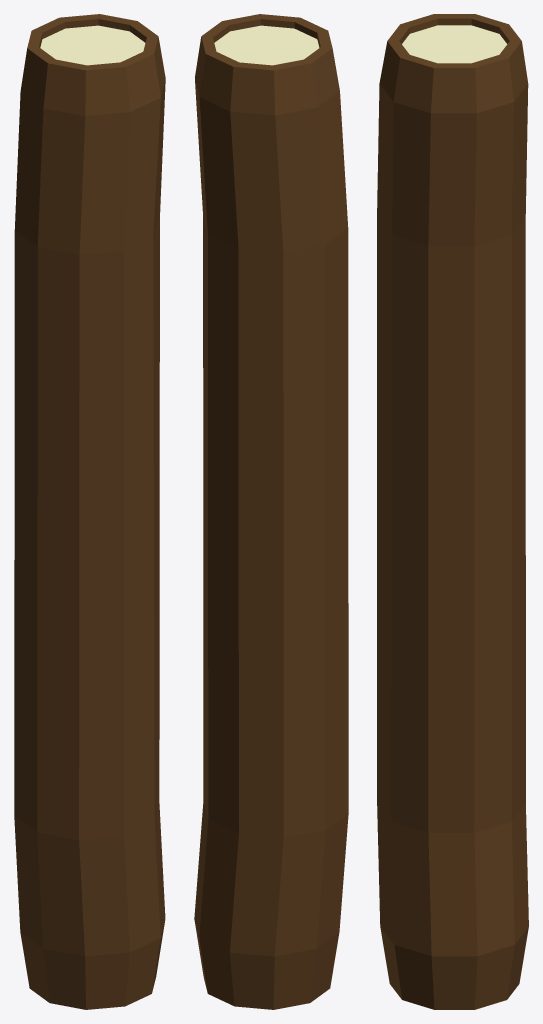
File: Log.fbx
3 renders of one model, left to right at view 1: azimuth 30°, elevation 25°; view 2: azimuth 150°, elevation 25°; view 3: azimuth 270°, elevation 25°, orthographic.
Parts seen in each view (by area): view 1: Cylinder; view 2: Cylinder; view 3: Cylinder.
Part boxes in pixels (box(x1,y1,x2,y2)): Cylinder: box(14, 14, 165, 1009); Cylinder: box(194, 14, 348, 1009); Cylinder: box(377, 14, 528, 1009).
Bounding box in the file's own units: 52.93 × 366 × 53.54.
